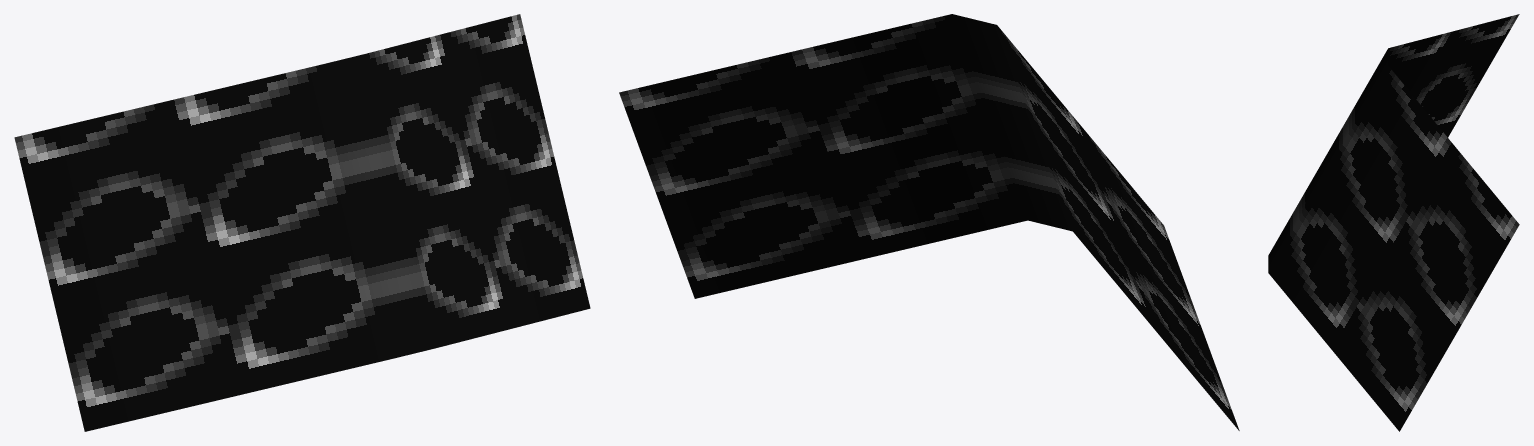
File: 5781head103_c.gltf
3 views of the same model, side by side, from view 1: azimuth 30°, elevation 25°; view 2: azimuth 150°, elevation 25°; view 3: azimuth 270°, elevation 25° (orthographic). The views are drawn at different scales.
Visible parts, largest first — view 1: 5781head103_c; view 2: 5781head103_c; view 3: 5781head103_c.
Part boxes in pixels (bbox=[...]): 5781head103_c: bbox=[14, 14, 590, 431]; 5781head103_c: bbox=[619, 14, 1239, 430]; 5781head103_c: bbox=[1268, 14, 1519, 431].
Bounding box in the file's own units: 0.6523 × 0.3896 × 0.3291.
Materials: 1 (1 with a texture image).
